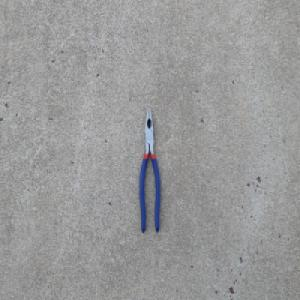Pliers: (138, 106, 161, 235)
